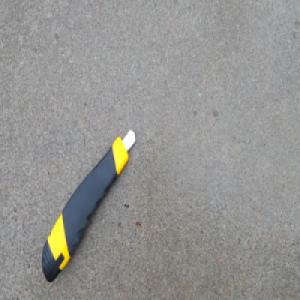Cutter: (40, 127, 136, 280)
